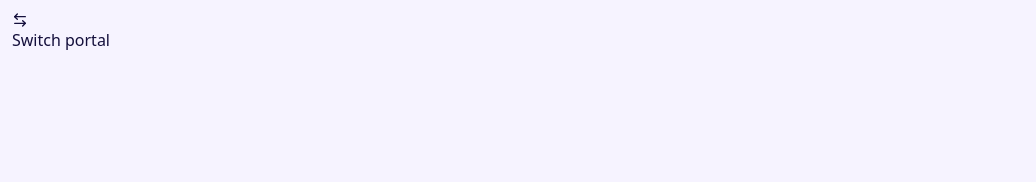
Scenario: PortalSwitcher › lists all four portals with their sign-in status and opens the right page
Click the button "Switch portal". click: x=61, y=32
box: [12,12,110,52]
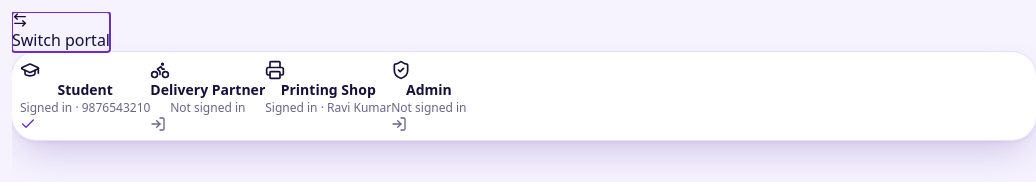
Result: the number of menu items is 4
Result: the menu item "Printing Shop Signed in · Ravi Kumar" is shown at [265,60,391,116]
Result: the menu item "Delivery Partner Not signed in" is shown
Click the menu item "Delivery Partner Not signed in". click: x=208, y=96
box: [150,60,265,132]
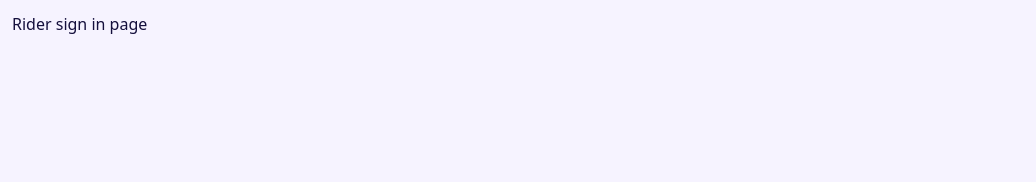
Result: the text "Rider sign in page" is shown at [12,13,147,35]
